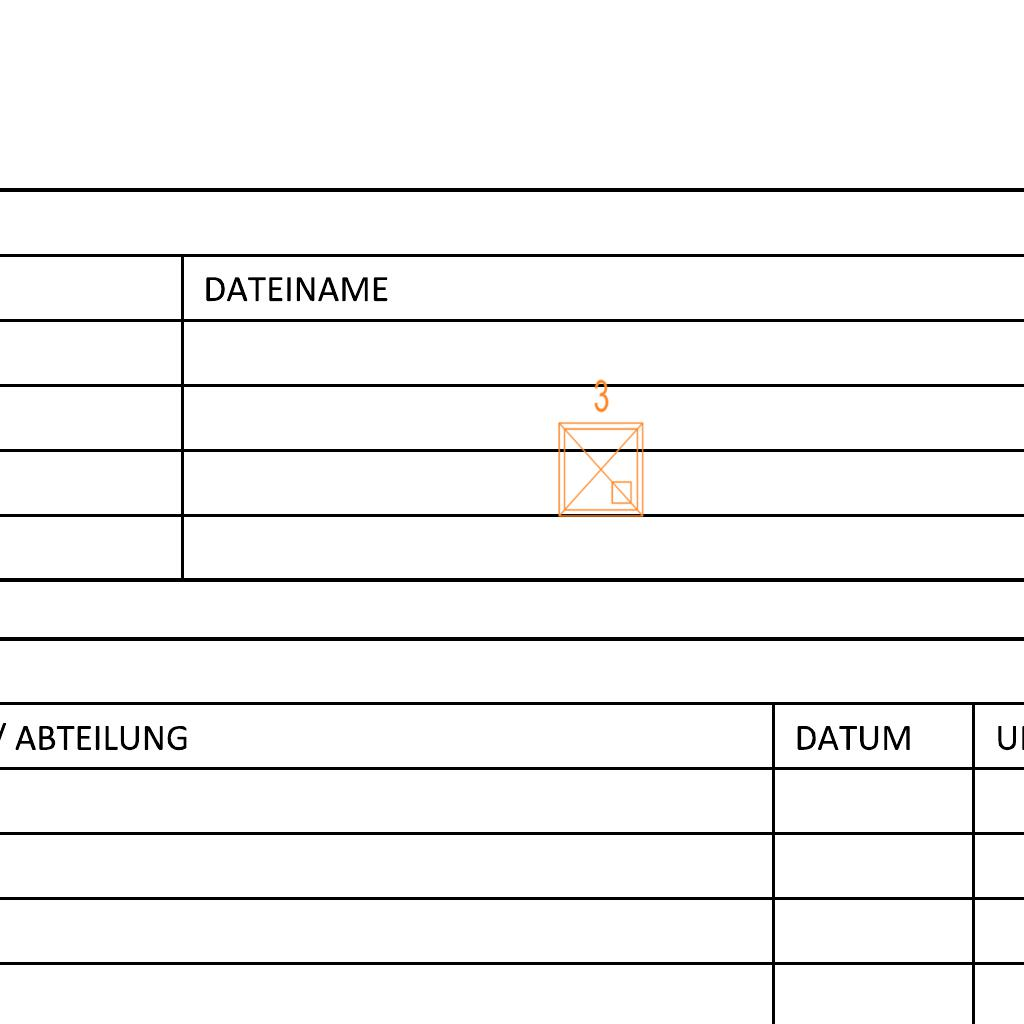Einbaudownlights_LED_Konferenzraeume: (547, 374, 651, 524)
